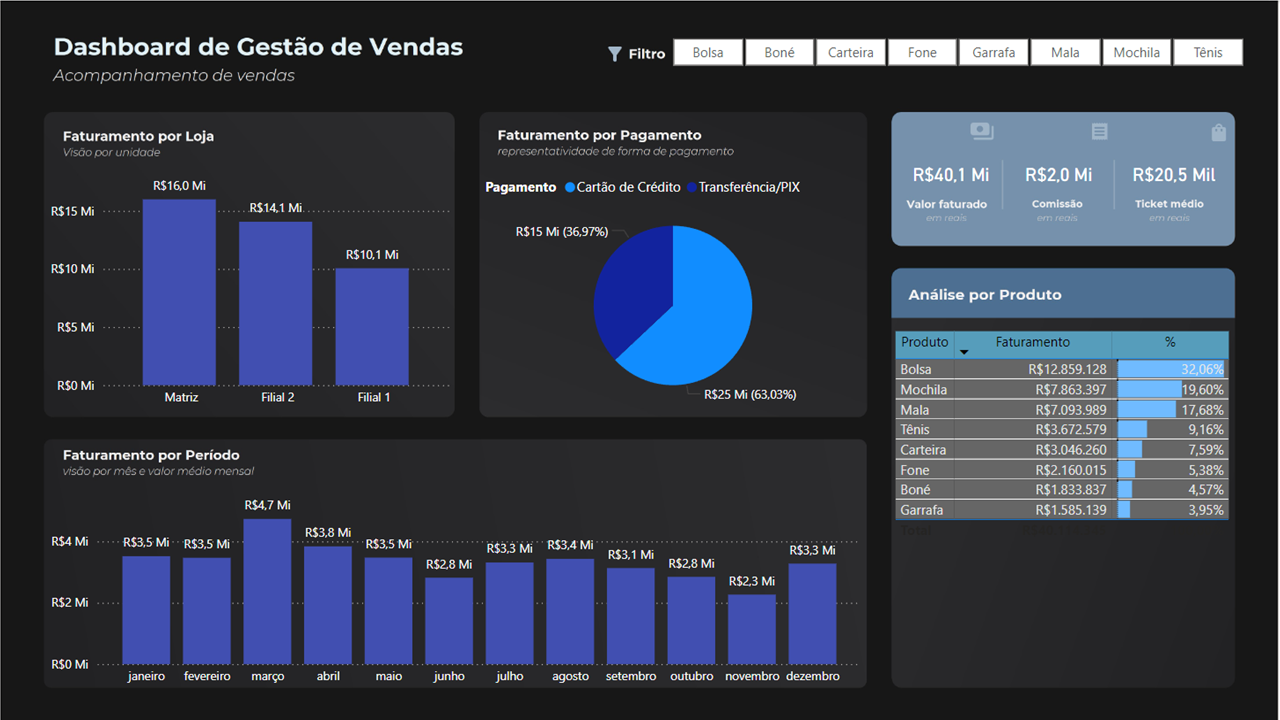

What the dashboard file says about the page in this screenshot:
{"tool":"powerbi","page":{"name":"Página 1","canvas":[1280,720],"ordinal":0},"visuals":[{"type":"card","fields":{"Values":["Sum(Vendas.Valor Venda)"]},"box":[906.1,133.5,93.1,81.7],"z":0},{"type":"card","fields":{"Values":["Avg(Vendas.Valor Venda)"]},"box":[1116,129.1,120.3,90.4],"z":1000},{"type":"columnChart","title":"Faturamento por Período","fields":{"Category":["Vendas.Data Pedido.Variation.Hierarquia de datas.Mês"],"Y":["Sum(Vendas.Valor Venda)"]},"box":[44.8,481.2,822.7,210.7],"z":2000},{"type":"pieChart","title":"Faturamento por Pagamento","fields":{"Y":["Sum(Vendas.Valor Venda)"],"Category":["Vendas.Pagamento"]},"box":[481.2,166,386.3,247.6],"z":3000},{"type":"columnChart","title":"Faturamento por Loja","fields":{"Y":["Sum(Vendas.Valor Venda)"],"Category":["Lojas.nome_loja"]},"box":[44.8,158,411.8,255.5],"z":4000},{"type":"tableEx","fields":{"Values":["Vendas.Produto","Sum(Vendas.Valor Venda)","Divide(Sum(Vendas.Valor Venda), ScopedEval(Sum(Vendas.Valor Venda), []))"]},"box":[894.7,335.4,356.5,274.8],"z":5000},{"type":"slicer","fields":{"Values":["Vendas.Produto"]},"box":[648,30.7,620.8,36],"z":6000},{"type":"card","fields":{"Values":["Vendas.comissao"]},"box":[1004.5,133.5,111.5,81.7],"z":7000}]}

Visuals, with their boxes in screenshot pixels (x1, y1, x2, y2), scaled from the page's 1280x720 canvas onto the 1280x720 screenshot:
card - Sum(Vendas.Valor Venda): rect(906, 134, 999, 215)
card - Avg(Vendas.Valor Venda): rect(1116, 129, 1236, 220)
"Faturamento por Período" columnChart: rect(45, 481, 868, 692)
"Faturamento por Pagamento" pieChart: rect(481, 166, 868, 414)
"Faturamento por Loja" columnChart: rect(45, 158, 457, 414)
tableEx - Vendas.Produto x Sum(Vendas.Valor Venda): rect(895, 335, 1251, 610)
slicer - Vendas.Produto: rect(648, 31, 1269, 67)
card - Vendas.comissao: rect(1004, 134, 1116, 215)
